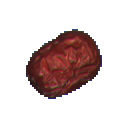gd: (17, 23, 116, 103)
